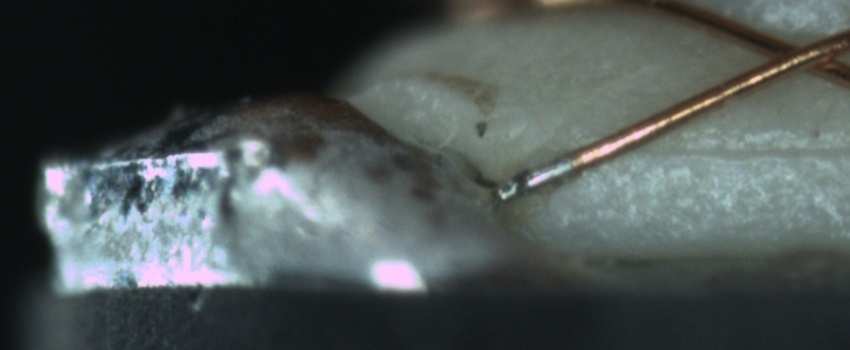CL: (745, 26, 846, 83)
DL: (624, 116, 849, 183)
TS: (490, 155, 574, 204)
